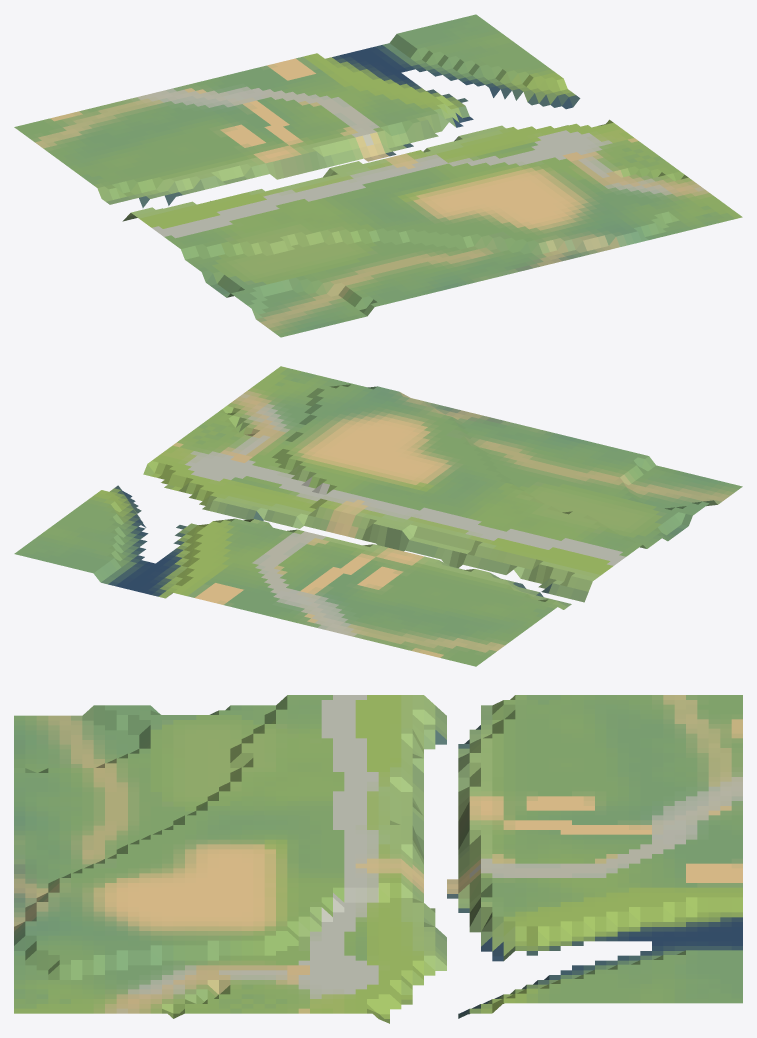
Rendered from test chunk 23.glb.
3 renders of one model, top to bottom at view 1: azimuth 30°, elevation 25°; view 2: azimuth 150°, elevation 25°; view 3: azimuth 270°, elevation 25°, orthographic. The views are drawn at different scales.
Visible parts, largest first — view 1: Chunk 23; view 2: Chunk 23; view 3: Chunk 23.
Boxes of the visible parts, x1,y1,x2,y2 form: Chunk 23: (14,14,742,337); Chunk 23: (14,366,742,666); Chunk 23: (14,695,742,1023).
Size of the model in its own units: 64 by 3 by 64.
1 material, 1 textured.
